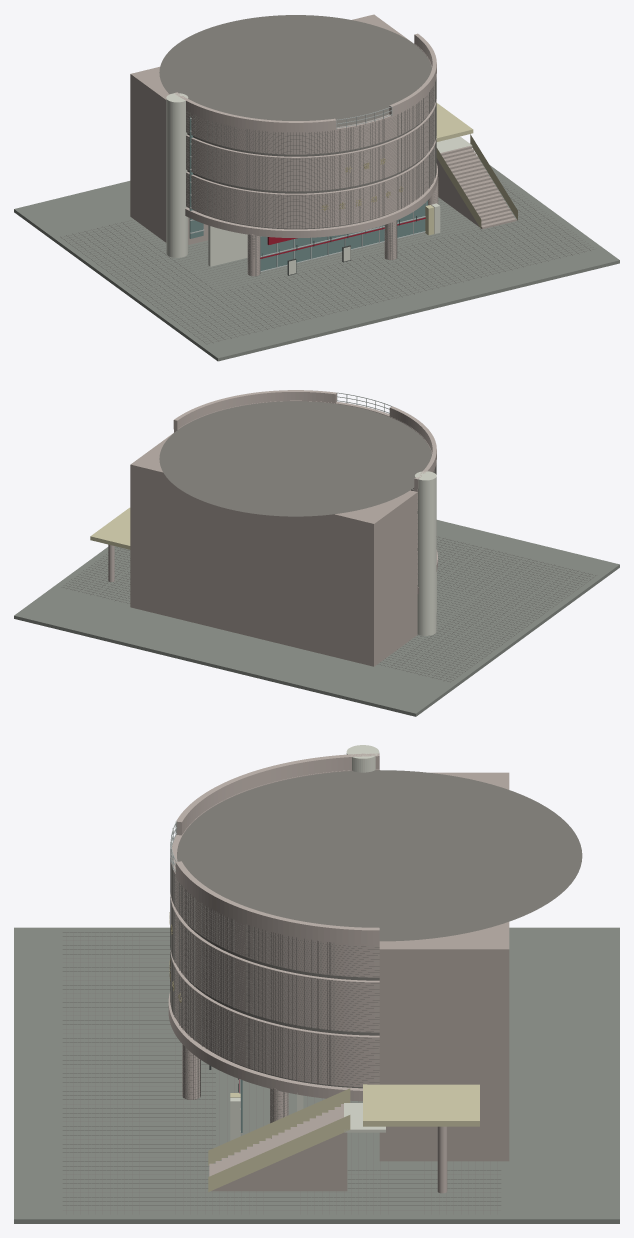
Rendered from yeyaozhen.glb.
The picture shows the model from 3 angles, top to bottom: view 1: azimuth 30°, elevation 25°; view 2: azimuth 150°, elevation 25°; view 3: azimuth 270°, elevation 25°; orthographic projection. The views are drawn at different scales.
Parts seen in each view (by area): view 1: forecourt, curved ceramic facade, roof deck, forecourt horizontal joints, horizontal tile grout, vertical narrow tile joints, inferred rear volume, forecourt brick joints, side exterior staircase, left pale vertical stair tower, shop glass storefront, roof parapet left (+8 smaller); view 2: inferred rear volume, forecourt, roof deck, forecourt horizontal joints, left pale vertical stair tower, forecourt brick joints, roof parapet right, side connecting canopy, roof parapet left, curved ceramic facade; view 3: forecourt, roof deck, curved ceramic facade, inferred rear volume, vertical narrow tile joints, horizontal tile grout, forecourt brick joints, side exterior staircase, forecourt horizontal joints, side connecting canopy, sloping yellow stair parapets, roof parapet right (+6 smaller).
Part boxes in pixels (<box>): forecourt: <box>14,158,619,361</box>; curved ceramic facade: <box>185,43,437,237</box>; roof deck: <box>159,15,431,127</box>; forecourt horizontal joints: <box>61,176,594,343</box>; horizontal tile grout: <box>186,84,436,226</box>; vertical narrow tile joints: <box>186,77,436,228</box>; inferred rear volume: <box>130,14,412,244</box>; forecourt brick joints: <box>60,186,590,343</box>; side exterior staircase: <box>436,146,516,229</box>; left pale vertical stair tower: <box>166,93,188,257</box>; shop glass storefront: <box>260,200,427,270</box>; roof parapet left: <box>174,92,336,132</box>; inferred rear volume: <box>130,433,417,666</box>; forecourt: <box>14,520,619,716</box>; roof deck: <box>159,401,431,516</box>; forecourt horizontal joints: <box>62,537,595,681</box>; left pale vertical stair tower: <box>414,471,436,635</box>; forecourt brick joints: <box>66,536,596,682</box>; roof parapet right: <box>173,390,336,429</box>; side connecting canopy: <box>90,507,130,549</box>; roof parapet left: <box>389,406,436,488</box>; curved ceramic facade: <box>174,400,437,594</box>; forecourt: <box>14,927,619,1223</box>; roof deck: <box>177,770,582,941</box>; curved ceramic facade: <box>168,769,379,1101</box>; inferred rear volume: <box>379,772,509,1161</box>; vertical narrow tile joints: <box>170,856,334,1085</box>; horizontal tile grout: <box>170,877,379,1084</box>; forecourt brick joints: <box>63,932,500,1210</box>; side exterior staircase: <box>209,1104,347,1191</box>; forecourt horizontal joints: <box>66,932,497,1214</box>; side connecting canopy: <box>363,1084,479,1126</box>; sloping yellow stair parapets: <box>208,1088,350,1191</box>; roof parapet right: <box>175,861,379,944</box>.
Size of the model in its own units: 33 by 12.49 by 29.
